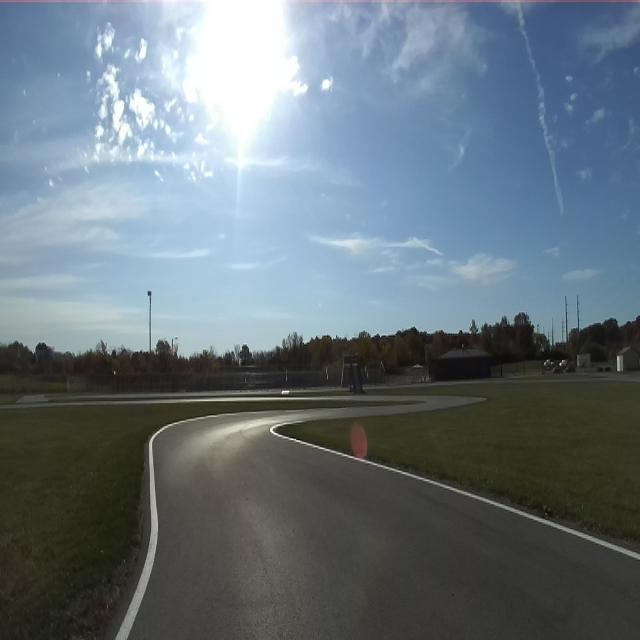white-line: (270, 424, 640, 560), (116, 414, 223, 639)
